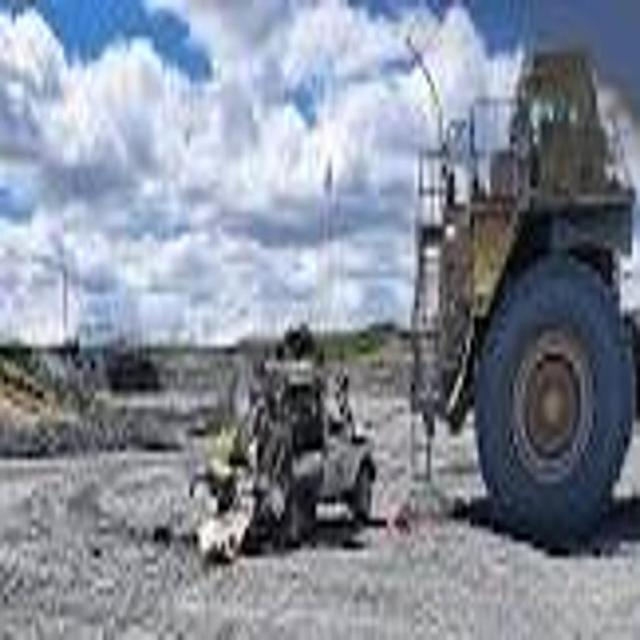dump_truck: (400, 21, 640, 565)
